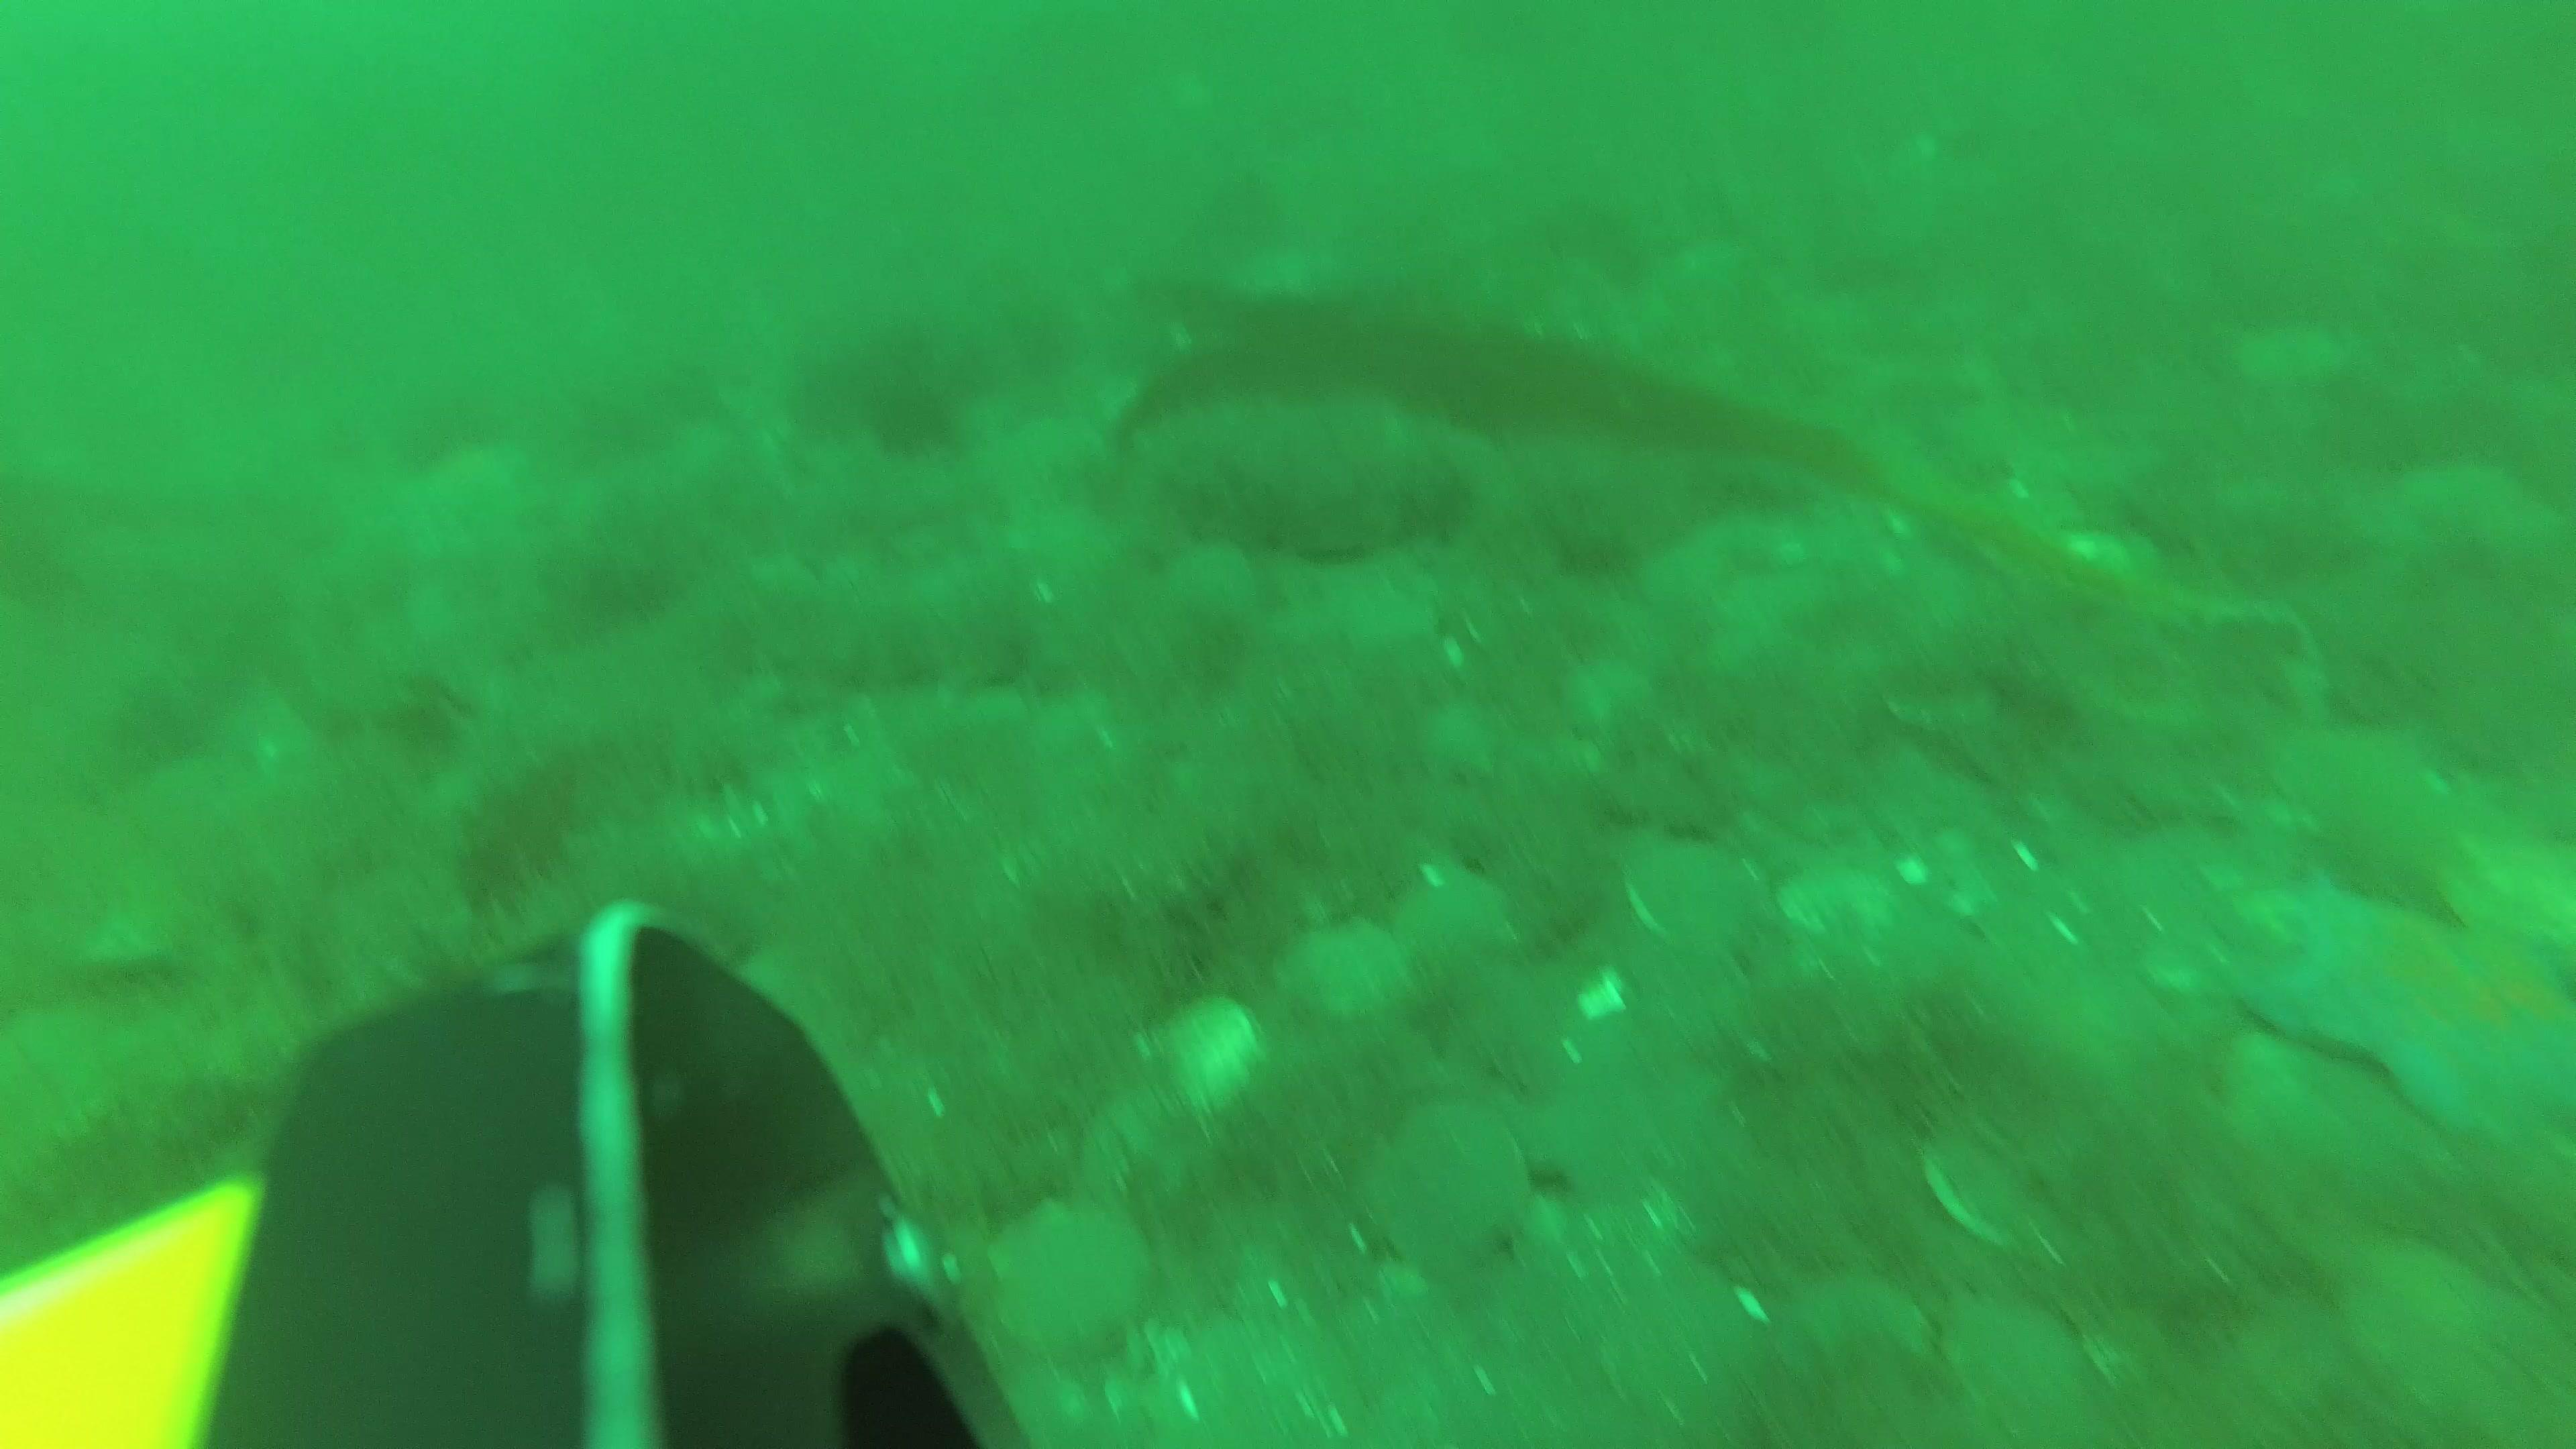echinus: (860, 377, 968, 471)
scallop: (1350, 1088, 1536, 1288), (978, 1198, 1175, 1355), (1612, 823, 1782, 962), (1767, 1269, 1930, 1401), (2434, 816, 2576, 964), (1909, 1104, 2042, 1256), (1939, 1293, 2086, 1422), (1387, 860, 1529, 978), (1272, 916, 1415, 1031), (1154, 987, 1265, 1123), (1323, 570, 1451, 658), (1884, 676, 2015, 741), (1162, 538, 1263, 621)
starfish: (2238, 860, 2576, 1157)
